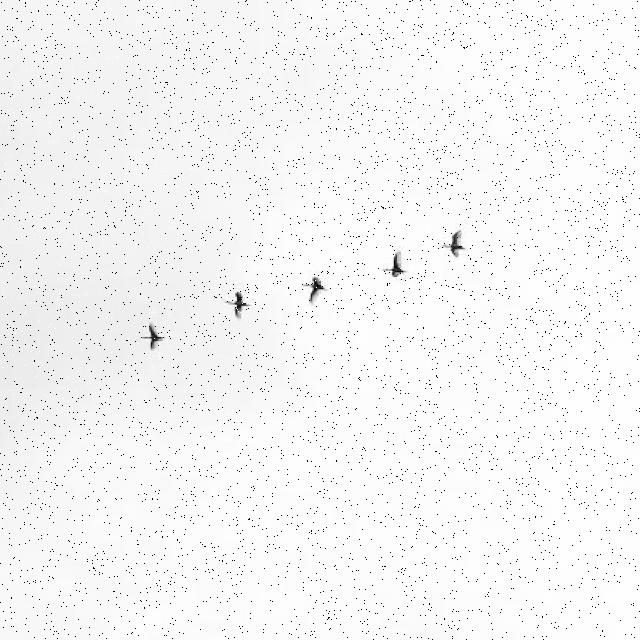bird: (223, 292, 251, 320), (440, 230, 466, 259), (382, 250, 408, 278), (302, 276, 328, 304), (140, 322, 165, 350)
